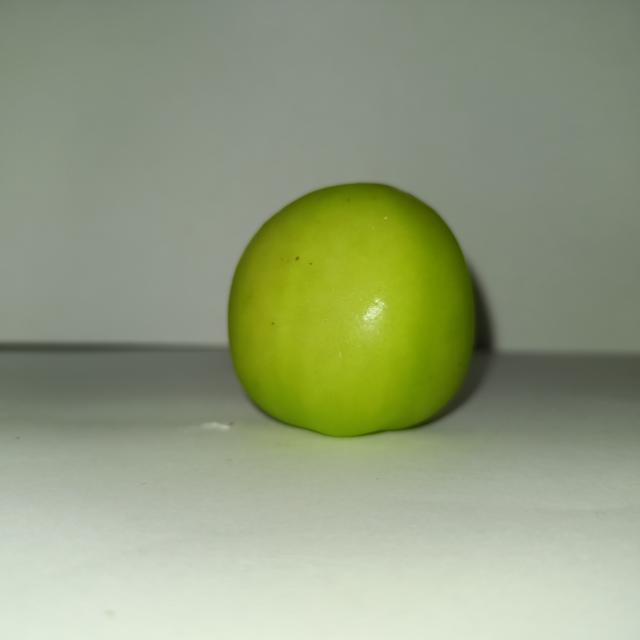Red: (226, 180, 478, 437)
